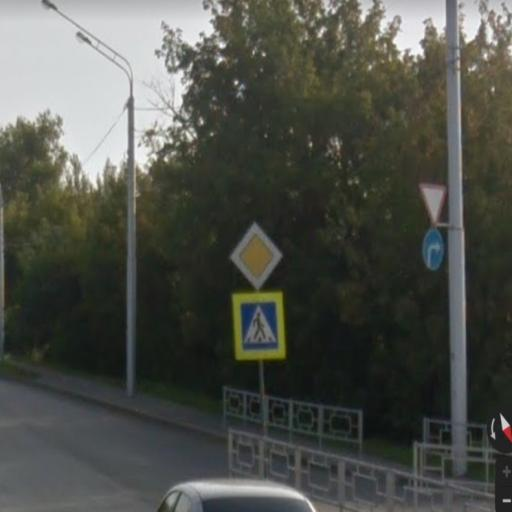traffic_sign: (227, 217, 288, 297), (230, 288, 292, 365), (417, 178, 451, 229)
